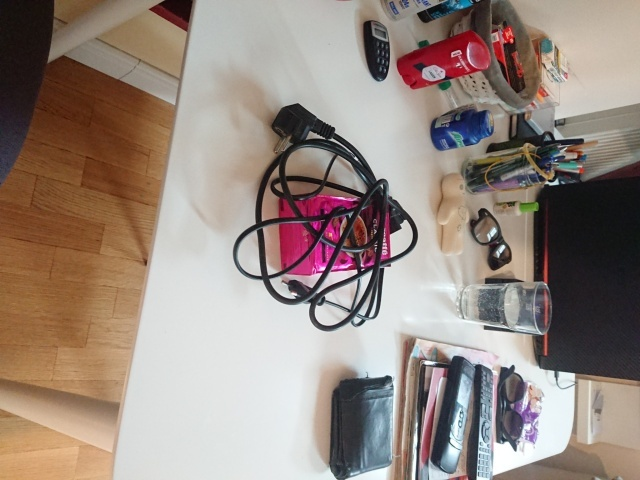Barcaffe Classic Original 225g: (277, 191, 394, 278)
